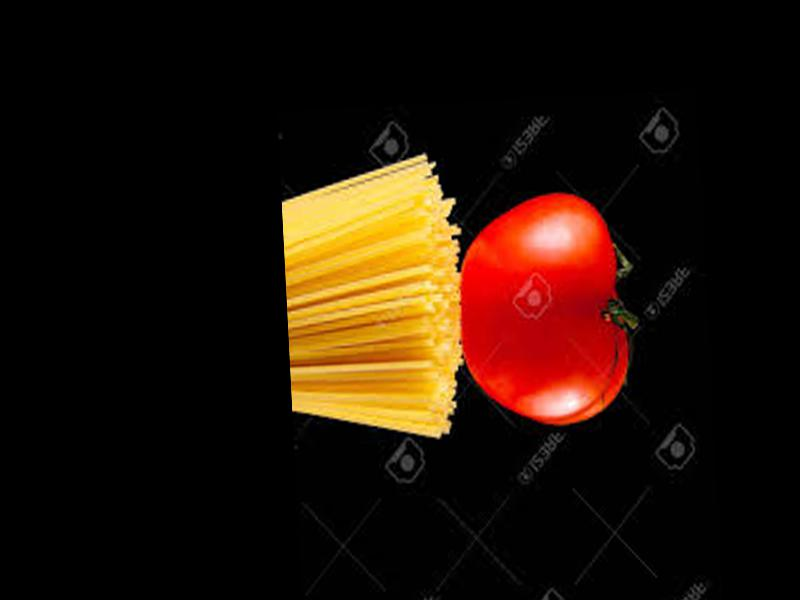Tomato: (453, 191, 632, 425)
